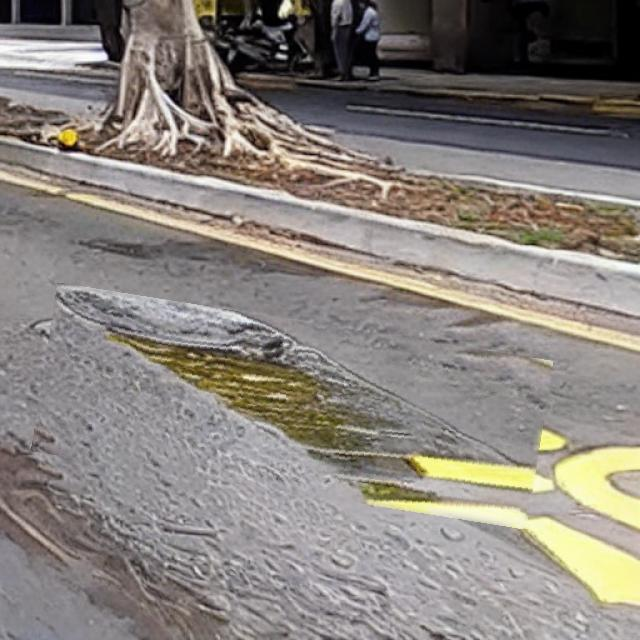puddle: (37, 302, 549, 511)
